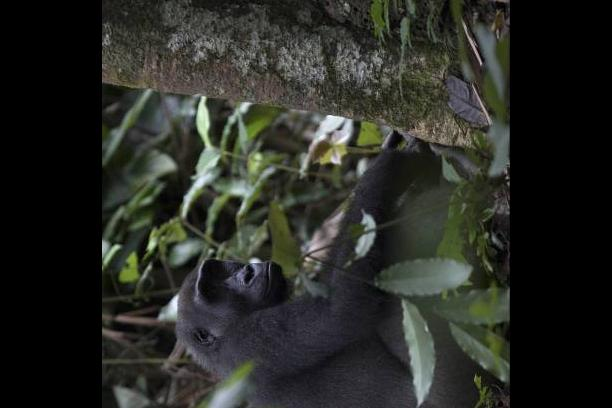gorille_Autres: (140, 151, 509, 408)
